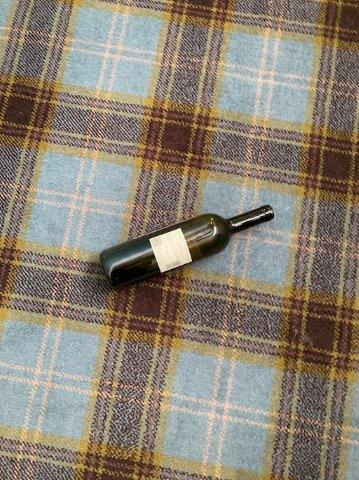botolkaca: (100, 203, 275, 290)
